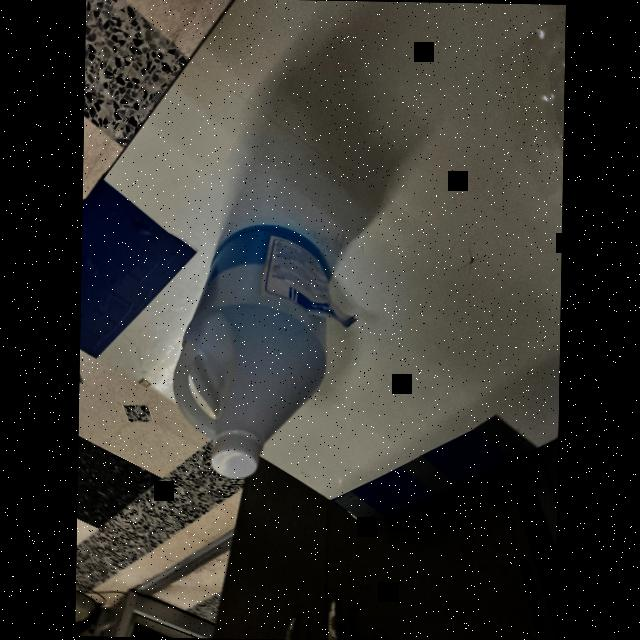chemical_plastic_gallon: (168, 215, 357, 497)
